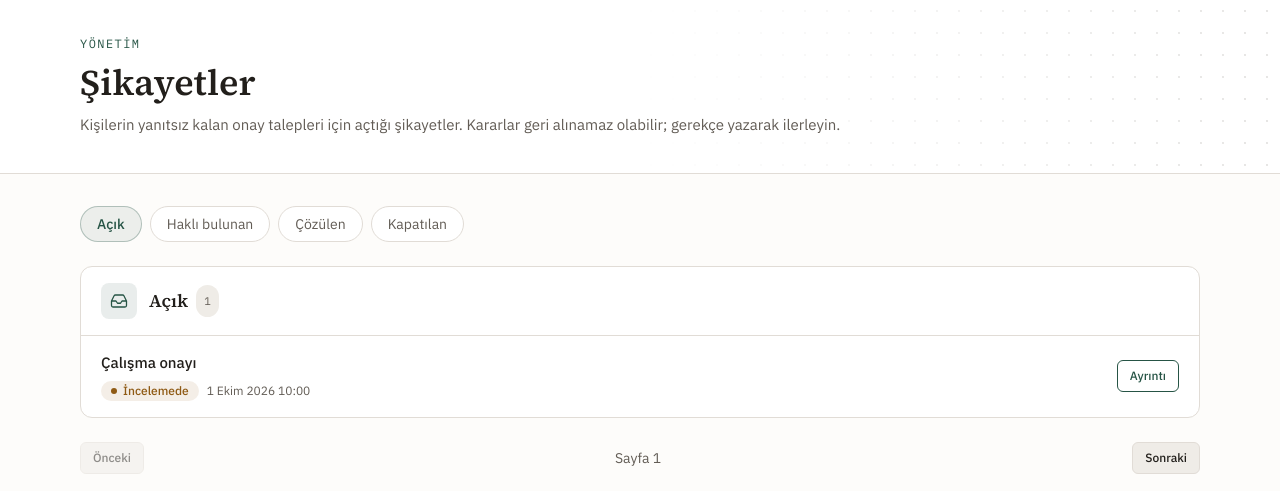
Test: AdminSikayetlerPage › paginates with has_more and offset
Check: the button "Önceki" is disabled, box [80,442,144,474]
Click the button "Sonraki": (1166, 458) [1132,442,1200,474]
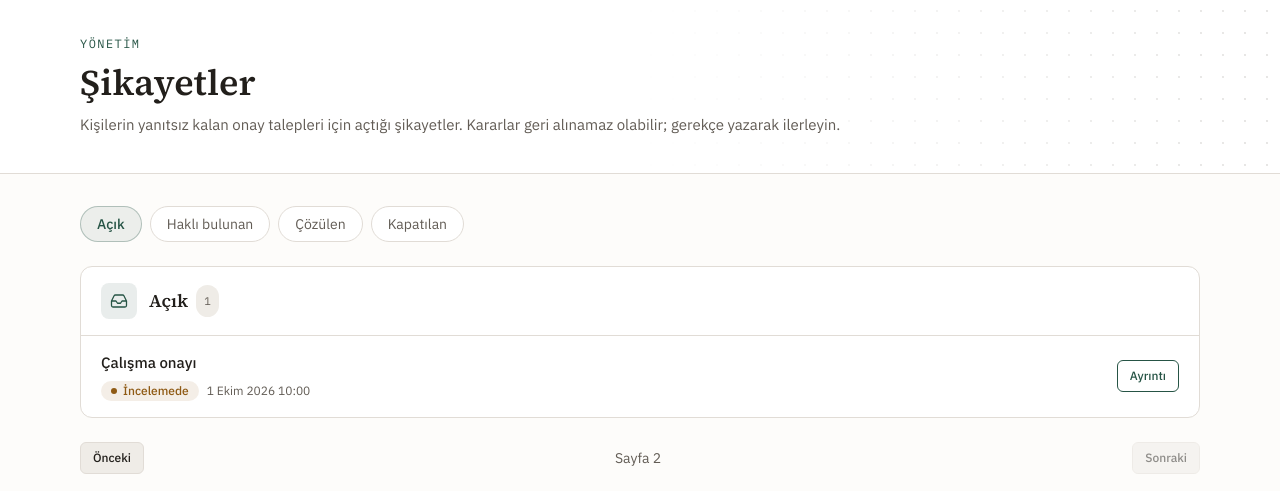
Check: the button "Sonraki" is disabled, box [1132,442,1200,474]
Check: the button "Önceki" is enabled, box [80,442,144,474]
